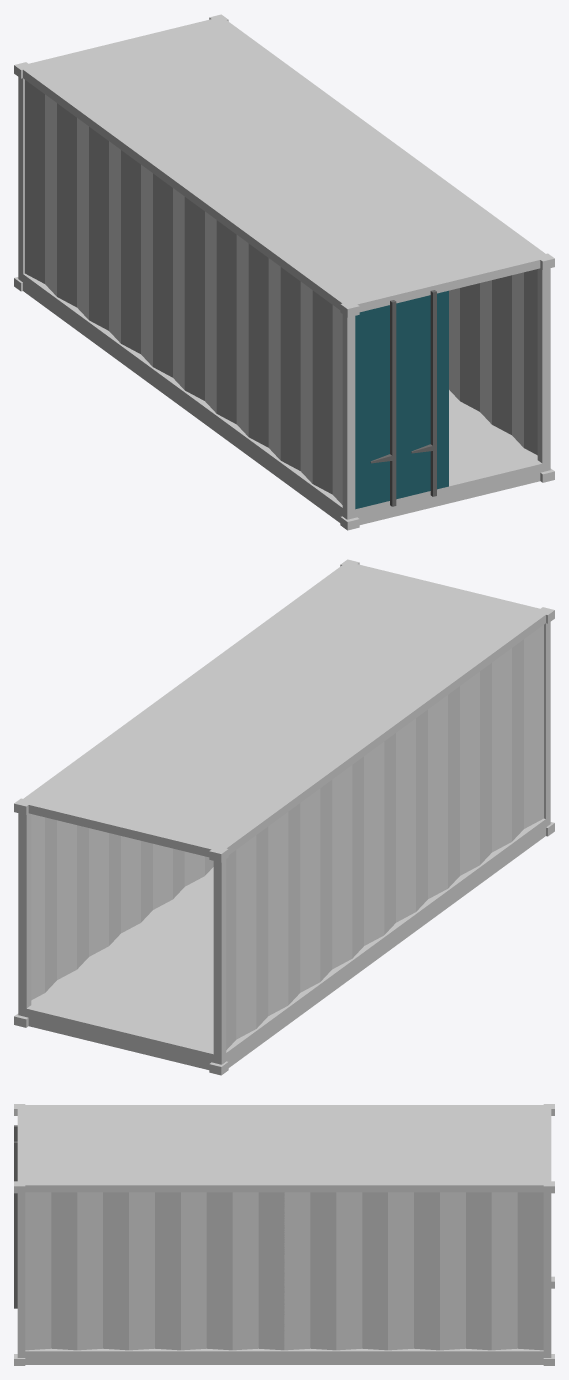
File: Container.fbx
3 views of the same model, one above another, from view 1: azimuth 30°, elevation 25°; view 2: azimuth 150°, elevation 25°; view 3: azimuth 270°, elevation 25° (orthographic). The views are drawn at different scales.
Parts seen in each view (by area): view 1: Container, Door; view 2: Container; view 3: Container, Door.
Part boxes in pixels (x1,y1,x2,y2): Container: (14,14,554,530); Door: (355,290,448,509); Container: (14,559,554,1075); Container: (14,1104,554,1365); Door: (14,1125,17,1308).
Size of the model in its own units: 255 by 260 by 710.
